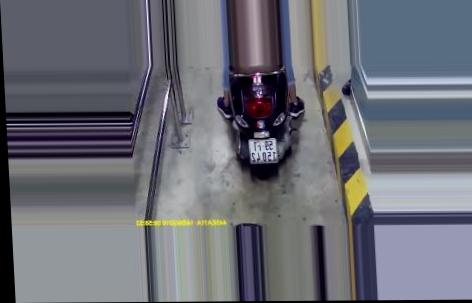License_Plate: (248, 136, 282, 163)
